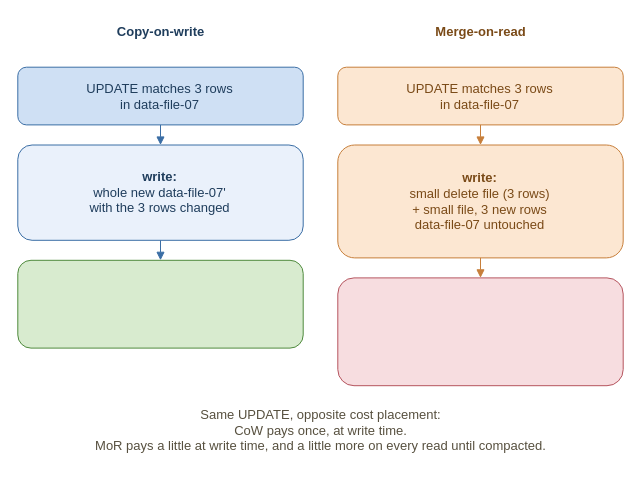
The diagram is 641 pixels wide and 493 high, and some of its shapes have lost their labels. The centre of each missing label's shape, as x and y in pixels:
read: merges the delete file against data-file-07 on every scan, until compacted: the point at 480,331
read: plain data files only no merge cost, ever: the point at 160,303
